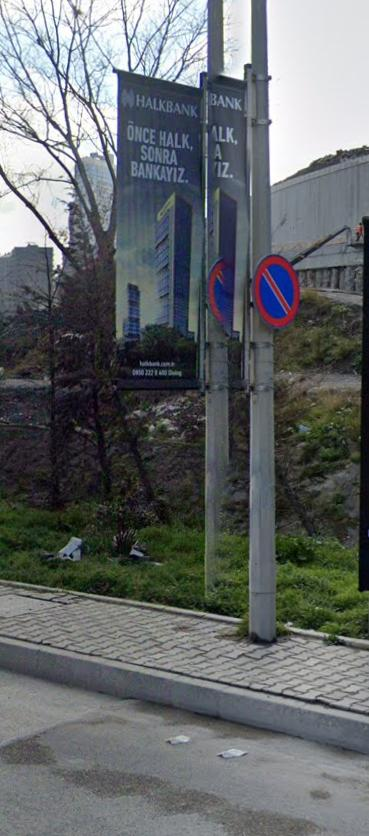nopark: (251, 252, 306, 333)
